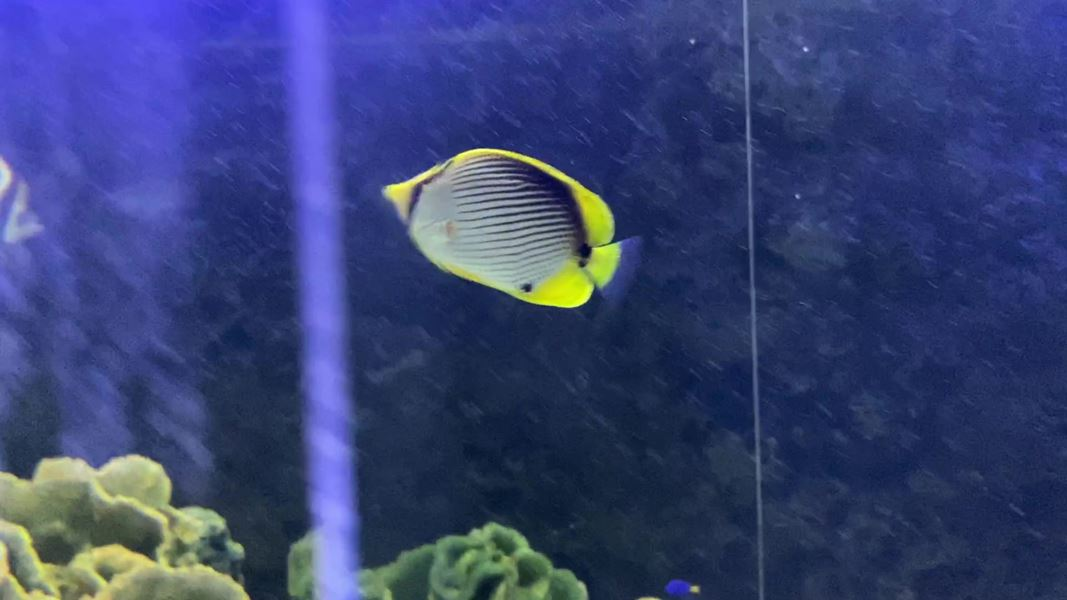Black-backed butterflyfish: (371, 136, 658, 328)
